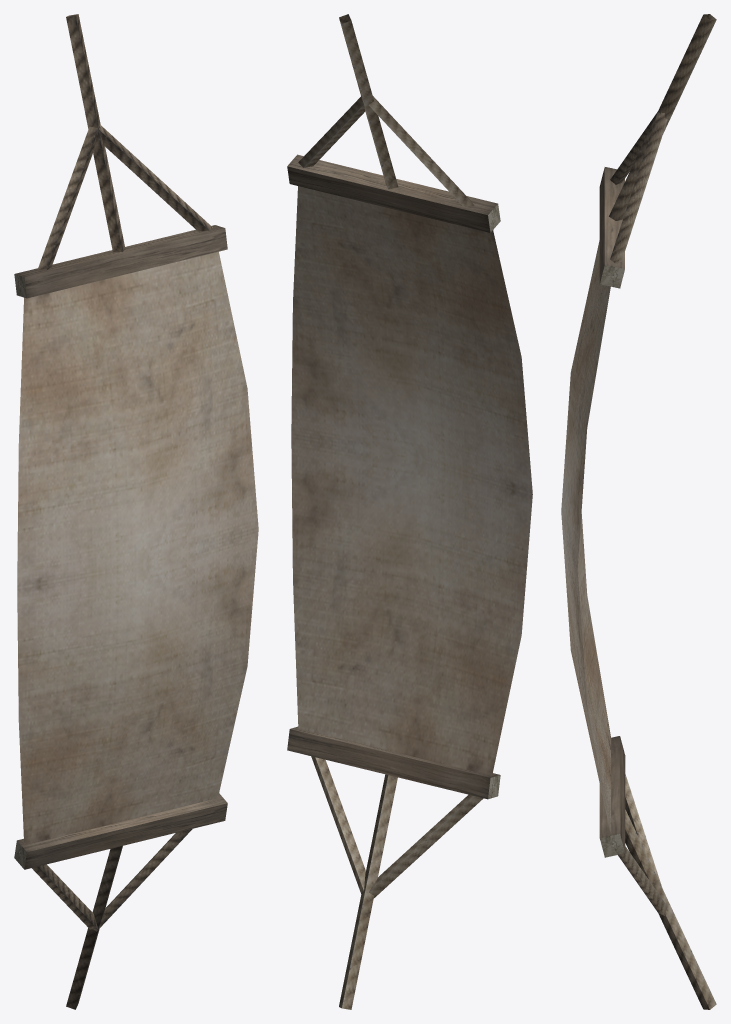
Rendered from Hammock_B.fbx.
3 renders of one model, left to right at view 1: azimuth 30°, elevation 25°; view 2: azimuth 150°, elevation 25°; view 3: azimuth 270°, elevation 25°, orthographic.
Visible parts, largest first — view 1: Hammock_B; view 2: Hammock_B; view 3: Hammock_B.
Boxes of the visible parts, bbox=[...] form: Hammock_B: bbox=[14, 14, 258, 1009]; Hammock_B: bbox=[287, 14, 532, 1009]; Hammock_B: bbox=[561, 14, 716, 1009].
Size of the model in its own units: 1.26 by 4.97 by 0.704.
